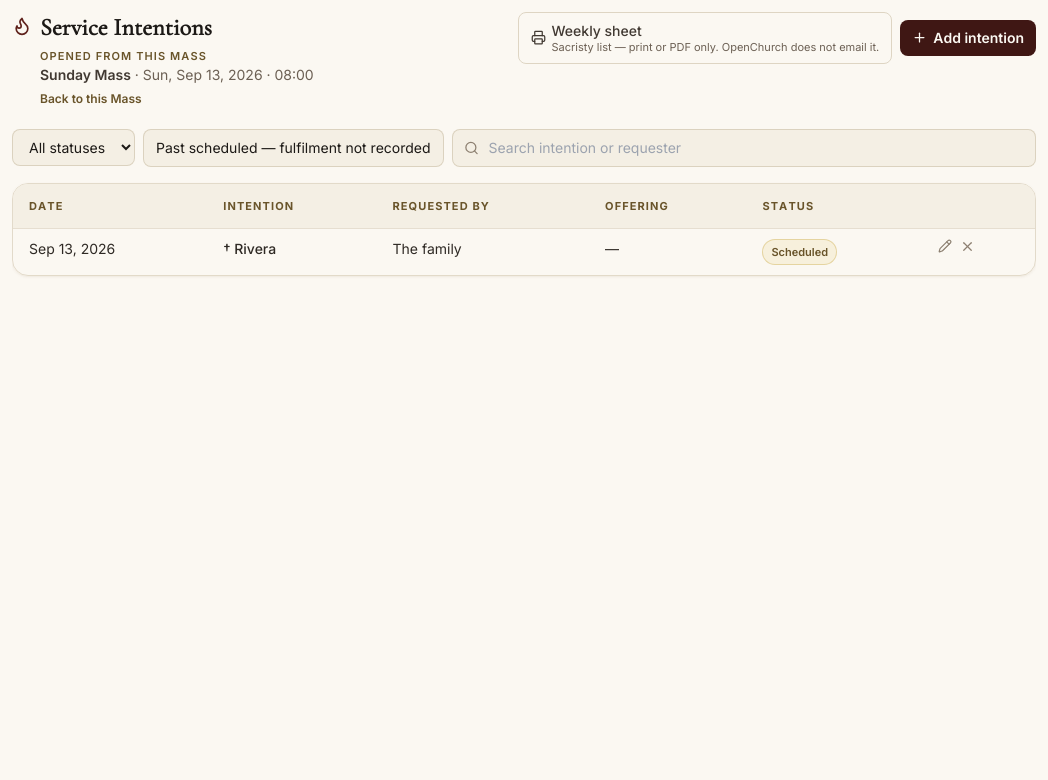
Scenario: book context vs this intention's assignment (E1) › REPRODUCED: chrome names Mass A while the form keeps Mass B
The width and height of the screenshot is (1048, 780).
Expected: the element with test id "intention-mass-chrome" shows "08:00", x1=143 y1=66 x2=314 y2=82
Expected: the element with test id "intention-mass-chrome" shows "Sunday Mass", x1=40 y1=66 x2=131 y2=82
Click the button named "edit intention". click: (945, 246)
box: x1=938 y1=239 x2=952 y2=253
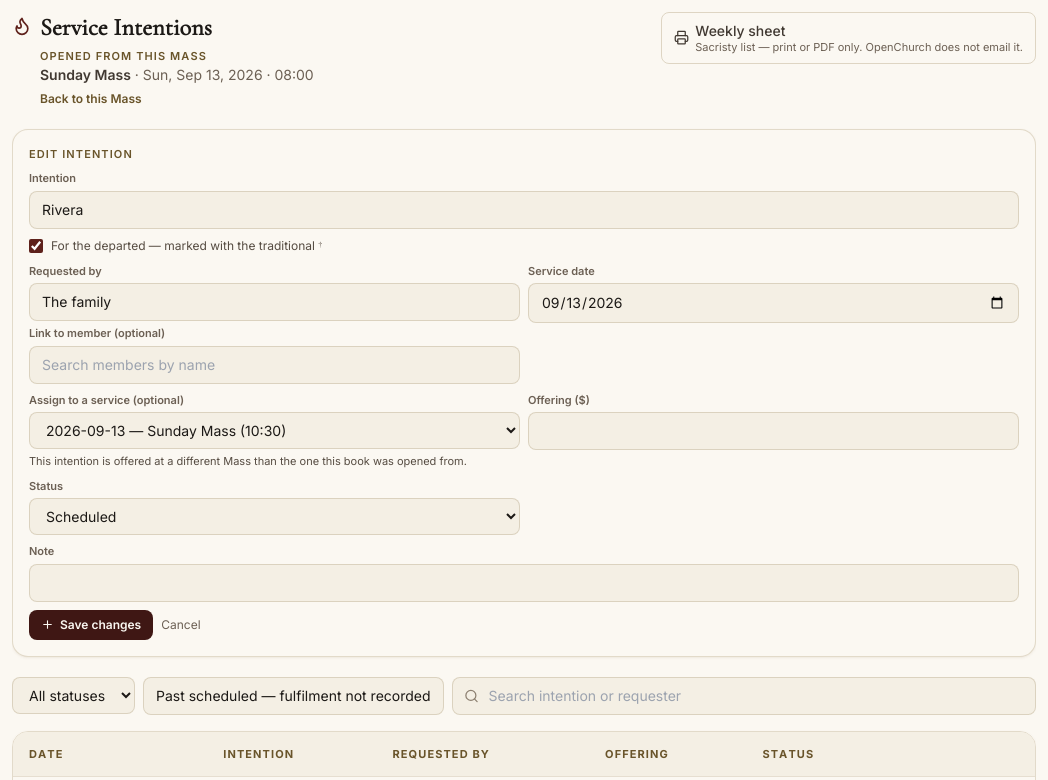
Expected: the element with test id "intention-mass-chrome" shows "08:00", x1=143 y1=66 x2=314 y2=82
Expected: the text "Edit intention" is shown, x1=29 y1=146 x2=133 y2=160
